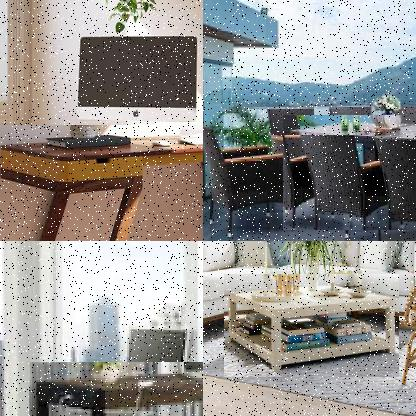table: (0, 124, 202, 240), (224, 274, 401, 378), (283, 115, 415, 232), (29, 362, 202, 415)
